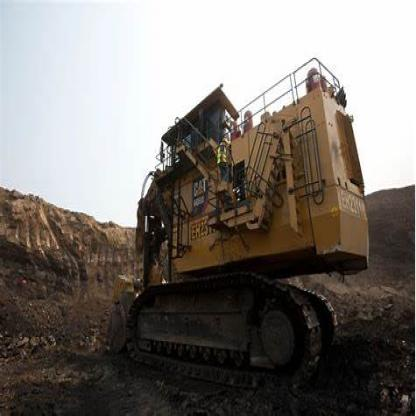excavator: (86, 39, 373, 384)
